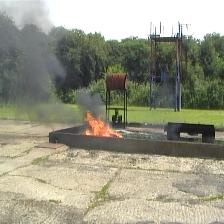fire: (84, 111, 123, 138)
